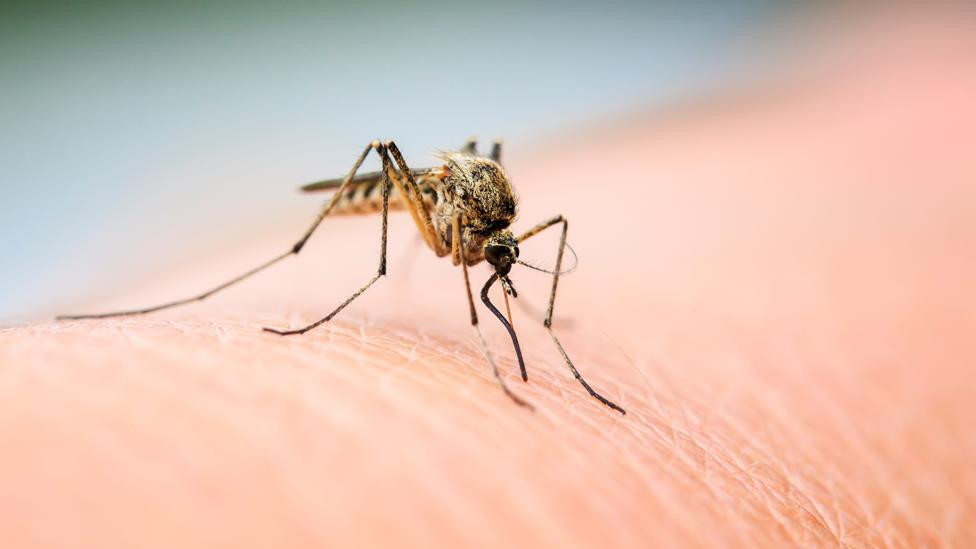mosquito: (59, 128, 649, 434)
